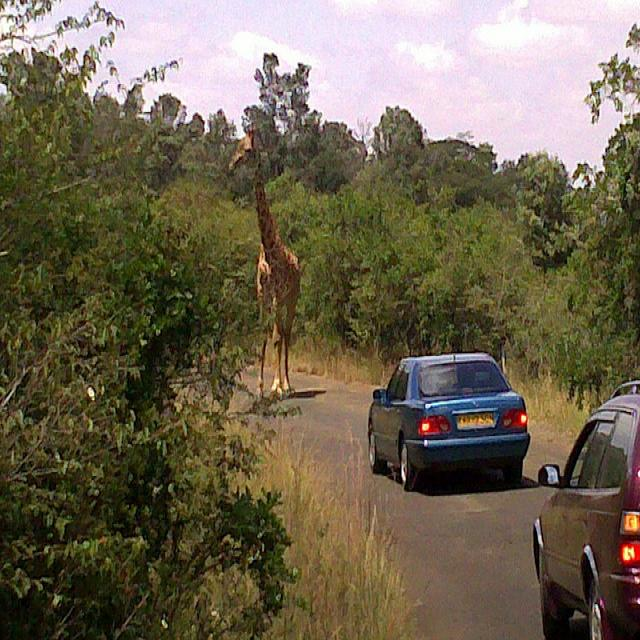Vehicle: (527, 374, 640, 630), (371, 357, 530, 479)
